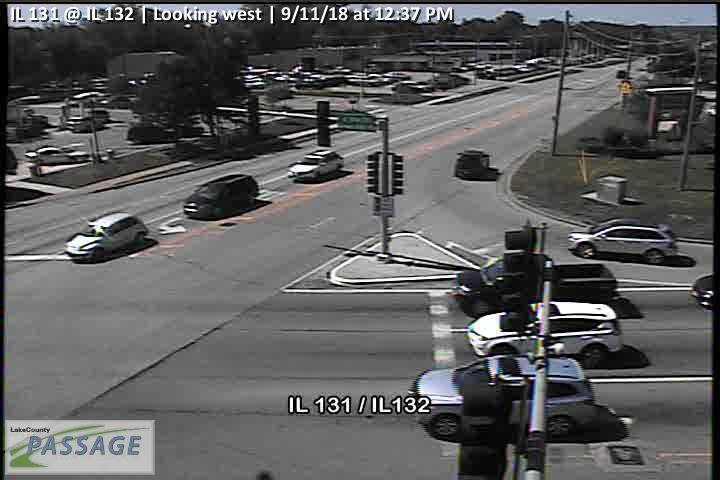Sedan: (414, 350, 601, 441), (465, 299, 625, 366), (565, 219, 678, 263), (62, 211, 147, 262), (182, 173, 258, 221), (285, 148, 345, 180), (28, 146, 90, 163)
Truck: (455, 253, 619, 318)
